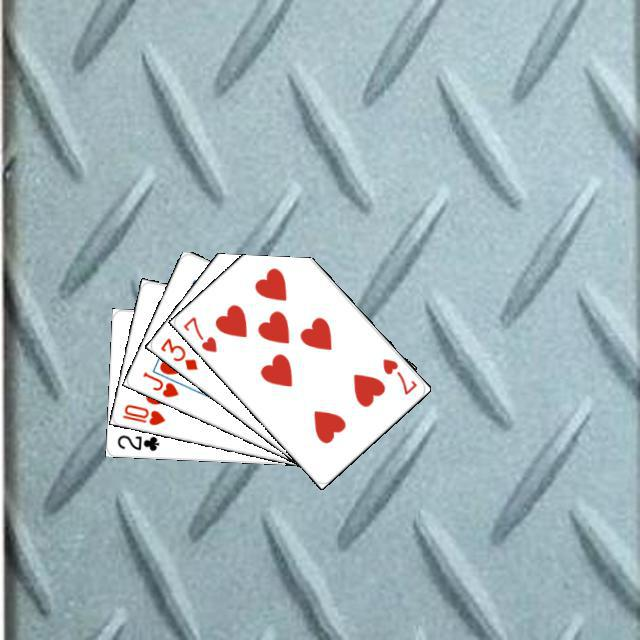10h: (117, 399, 167, 427)
2c: (113, 430, 161, 453)
3d: (155, 333, 200, 372)
7h: (378, 353, 419, 397), (178, 311, 219, 354)
Jh: (138, 367, 180, 399)
